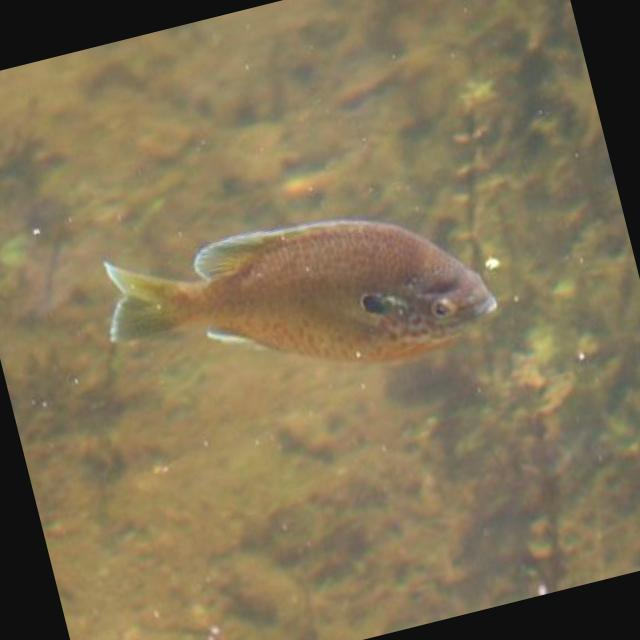Gunes Levregi: (90, 152, 512, 438)
